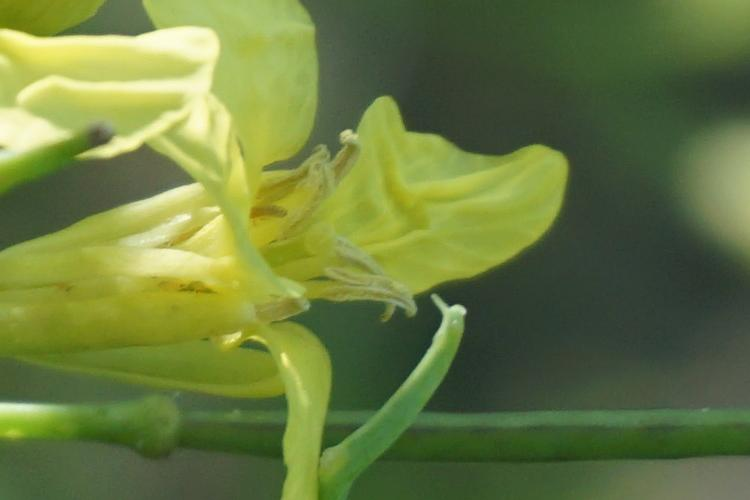yellow: (10, 5, 588, 354), (1, 21, 254, 202)
